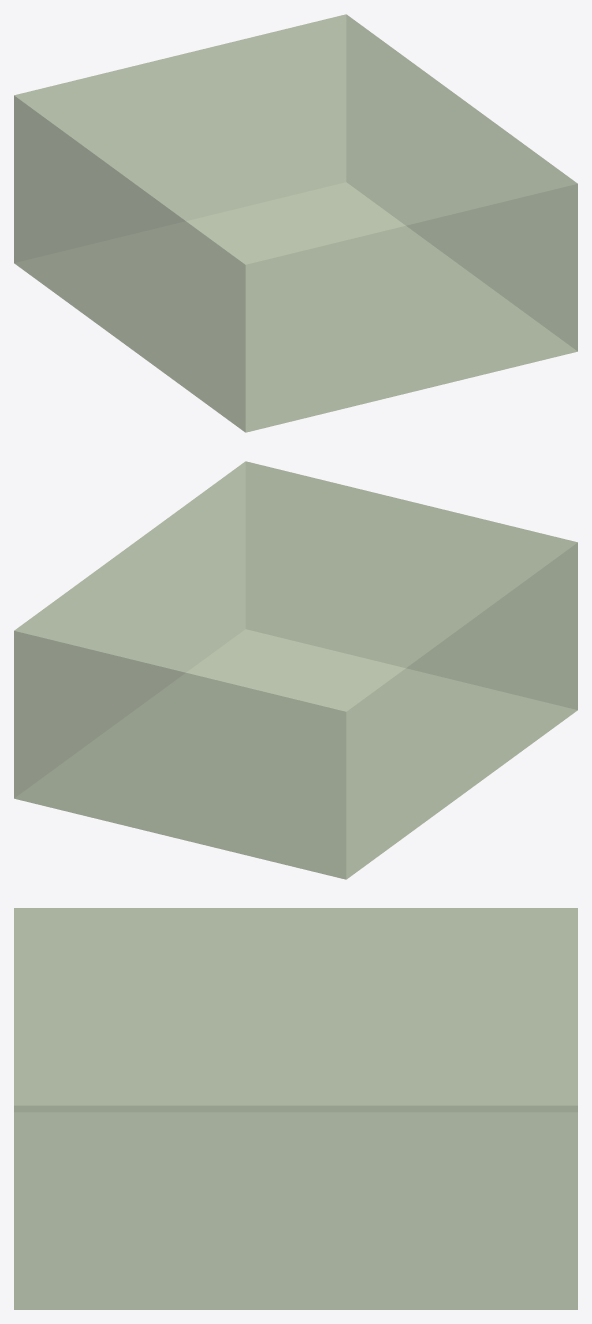
Rendered from blockout.glb.
The picture shows the model from 3 angles, top to bottom: view 1: azimuth 30°, elevation 25°; view 2: azimuth 150°, elevation 25°; view 3: azimuth 270°, elevation 25°; orthographic projection. The views are drawn at different scales.
Parts seen in each view (by area): view 1: U07_ENVELOPE_NOT_FINAL_MESH; view 2: U07_ENVELOPE_NOT_FINAL_MESH; view 3: U07_ENVELOPE_NOT_FINAL_MESH.
Boxes of the visible parts, left/top/right/bottom form: U07_ENVELOPE_NOT_FINAL_MESH: left=14, top=14, right=577, bottom=432; U07_ENVELOPE_NOT_FINAL_MESH: left=14, top=461, right=577, bottom=879; U07_ENVELOPE_NOT_FINAL_MESH: left=14, top=908, right=577, bottom=1309.
Size of the model in its own units: 2.9 by 1.4 by 3.5.
